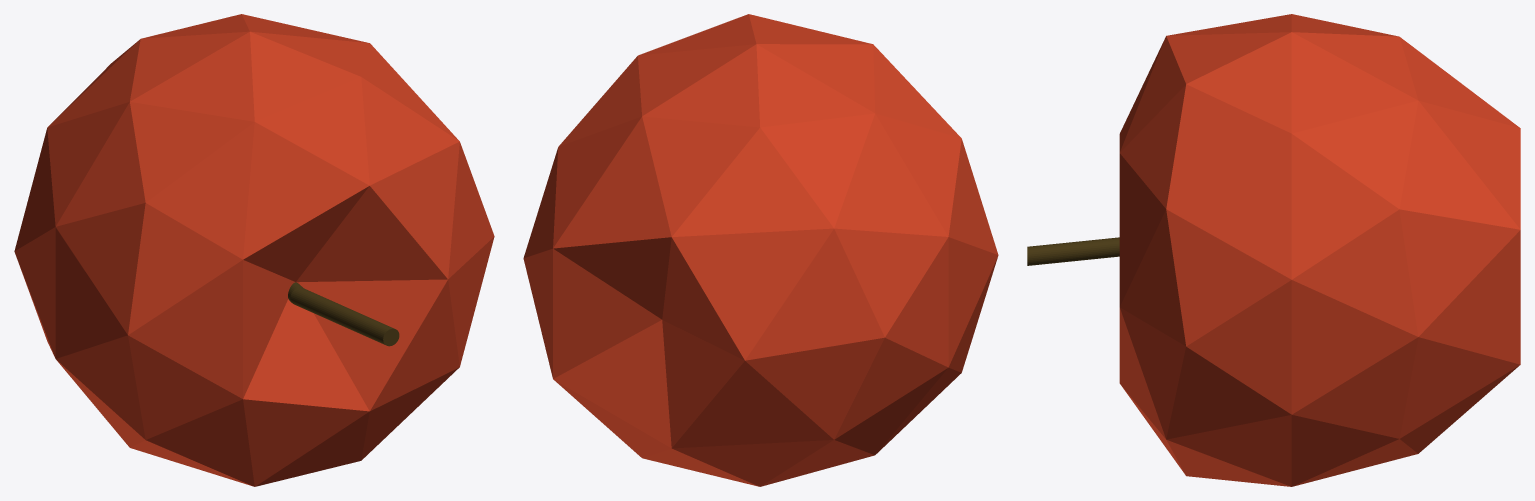
The model's file is apple.fbx.
3 renders of one model, left to right at view 1: azimuth 30°, elevation 25°; view 2: azimuth 150°, elevation 25°; view 3: azimuth 270°, elevation 25°, orthographic. The views are drawn at different scales.
Visible parts, largest first — view 1: Icosphere, Cylinder; view 2: Icosphere; view 3: Icosphere, Cylinder.
Part boxes in pixels (x1,y1,x2,y2): Icosphere: [14, 14, 494, 486]; Cylinder: [288, 282, 399, 346]; Icosphere: [523, 14, 998, 486]; Icosphere: [1119, 14, 1520, 486]; Cylinder: [1027, 237, 1119, 265].
Size of the model in its own units: 190 by 200 by 205.
